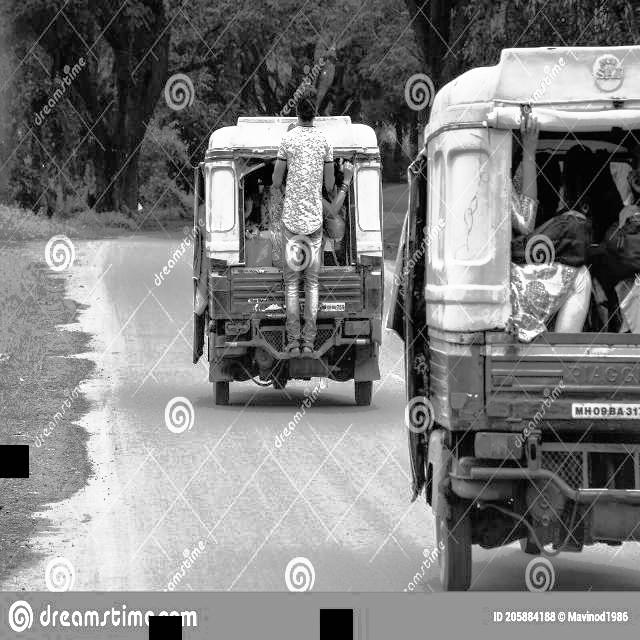Auto-Rickshaw: (377, 77, 640, 592), (187, 111, 391, 419)
